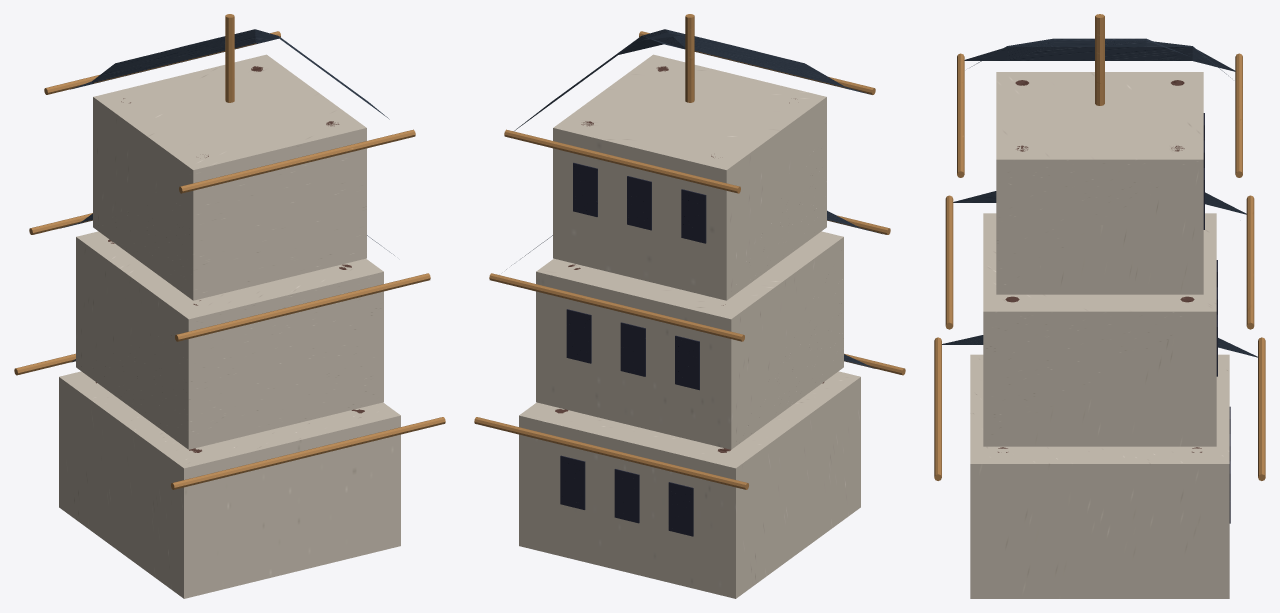
Rendered from shogun_pagoda_watchtower_lod0.glb.
3 renders of one model, left to right at view 1: azimuth 30°, elevation 25°; view 2: azimuth 150°, elevation 25°; view 3: azimuth 270°, elevation 25°, orthographic. The views are drawn at different scales.
Visible parts, largest first — view 1: shogun_pagoda_watchtower_022, shogun_pagoda_watchtower_000, shogun_pagoda_watchtower_011, shogun_pagoda_watchtower_027, shogun_pagoda_watchtower_007, shogun_pagoda_watchtower_018, shogun_pagoda_watchtower_029, shogun_pagoda_watchtower_033, shogun_pagoda_watchtower_028; view 2: shogun_pagoda_watchtower_022, shogun_pagoda_watchtower_000, shogun_pagoda_watchtower_011, shogun_pagoda_watchtower_027, shogun_pagoda_watchtower_006, shogun_pagoda_watchtower_017, shogun_pagoda_watchtower_028, shogun_pagoda_watchtower_021, shogun_pagoda_watchtower_008, shogun_pagoda_watchtower_009, shogun_pagoda_watchtower_020, shogun_pagoda_watchtower_010 (+5 smaller); view 3: shogun_pagoda_watchtower_022, shogun_pagoda_watchtower_000, shogun_pagoda_watchtower_011, shogun_pagoda_watchtower_027, shogun_pagoda_watchtower_017, shogun_pagoda_watchtower_018, shogun_pagoda_watchtower_006, shogun_pagoda_watchtower_007, shogun_pagoda_watchtower_028, shogun_pagoda_watchtower_029, shogun_pagoda_watchtower_033, shogun_pagoda_watchtower_016 (+1 smaller).
Part boxes in pixels (x1=…): shogun_pagoda_watchtower_022: x1=93, y1=54, x2=366, y2=300; shogun_pagoda_watchtower_000: x1=59, y1=371, x2=400, y2=598; shogun_pagoda_watchtower_011: x1=76, y1=231, x2=383, y2=449; shogun_pagoda_watchtower_027: x1=70, y1=29, x2=389, y2=119; shogun_pagoda_watchtower_007: x1=171, y1=417, x2=445, y2=489; shogun_pagoda_watchtower_018: x1=175, y1=273, x2=430, y2=341; shogun_pagoda_watchtower_029: x1=179, y1=129, x2=415, y2=193; shogun_pagoda_watchtower_033: x1=225, y1=14, x2=234, y2=102; shogun_pagoda_watchtower_028: x1=44, y1=31, x2=280, y2=94; shogun_pagoda_watchtower_022: x1=553, y1=54, x2=826, y2=300; shogun_pagoda_watchtower_000: x1=519, y1=371, x2=860, y2=598; shogun_pagoda_watchtower_011: x1=536, y1=231, x2=843, y2=449; shogun_pagoda_watchtower_027: x1=514, y1=29, x2=871, y2=130; shogun_pagoda_watchtower_006: x1=474, y1=417, x2=748, y2=489; shogun_pagoda_watchtower_017: x1=489, y1=273, x2=744, y2=341; shogun_pagoda_watchtower_028: x1=504, y1=129, x2=740, y2=193; shogun_pagoda_watchtower_021: x1=566, y1=309, x2=591, y2=363; shogun_pagoda_watchtower_008: x1=668, y1=482, x2=693, y2=536; shogun_pagoda_watchtower_009: x1=614, y1=469, x2=639, y2=523; shogun_pagoda_watchtower_020: x1=620, y1=322, x2=645, y2=376; shogun_pagoda_watchtower_010: x1=560, y1=455, x2=585, y2=509; shogun_pagoda_watchtower_022: x1=996, y1=72, x2=1203, y2=294; shogun_pagoda_watchtower_000: x1=970, y1=354, x2=1229, y2=598; shogun_pagoda_watchtower_011: x1=983, y1=213, x2=1216, y2=446; shogun_pagoda_watchtower_027: x1=964, y1=38, x2=1235, y2=77; shogun_pagoda_watchtower_017: x1=1246, y1=195, x2=1254, y2=329; shogun_pagoda_watchtower_018: x1=945, y1=195, x2=953, y2=329; shogun_pagoda_watchtower_006: x1=1258, y1=337, x2=1265, y2=480; shogun_pagoda_watchtower_007: x1=934, y1=337, x2=941, y2=480; shogun_pagoda_watchtower_028: x1=1235, y1=53, x2=1242, y2=177; shogun_pagoda_watchtower_029: x1=957, y1=53, x2=964, y2=177; shogun_pagoda_watchtower_033: x1=1095, y1=14, x2=1104, y2=105; shogun_pagoda_watchtower_016: x1=953, y1=191, x2=1246, y2=214.
Size of the model in its own units: 10 by 18 by 10.24.
5 materials, 5 textured.
